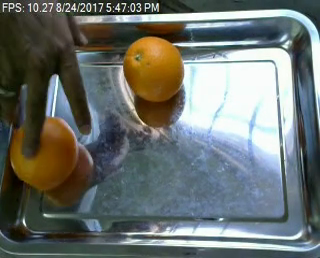Orange: (121, 35, 184, 103)
